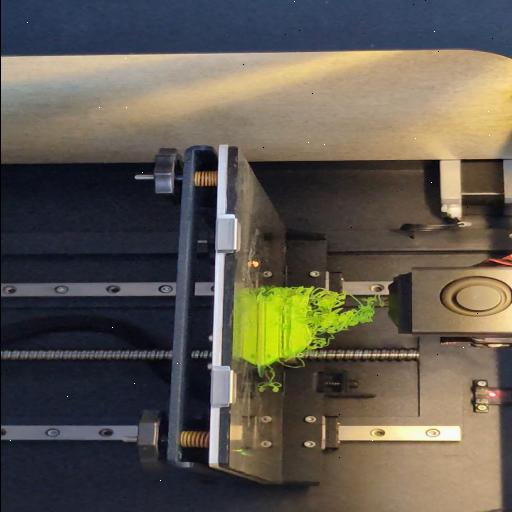spaghetti: (302, 288, 388, 350), (267, 366, 283, 392), (258, 286, 298, 294), (280, 357, 306, 368)
